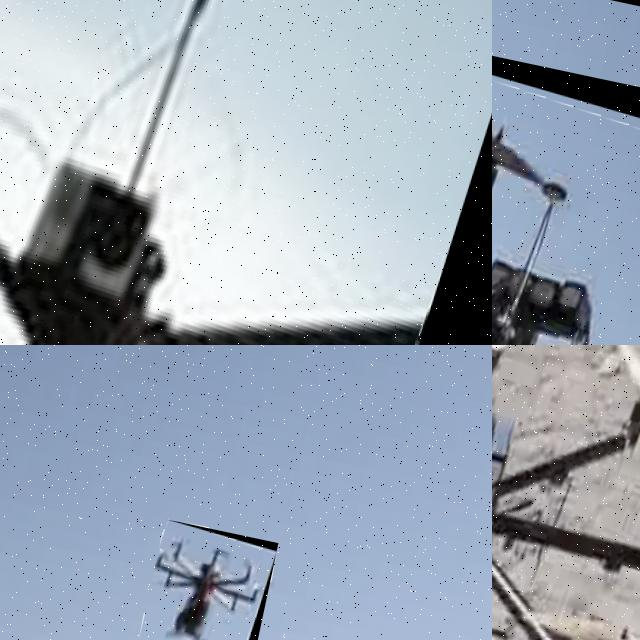drone: (0, 0, 492, 345), (492, 2, 640, 345), (492, 345, 640, 640), (136, 519, 278, 640)
